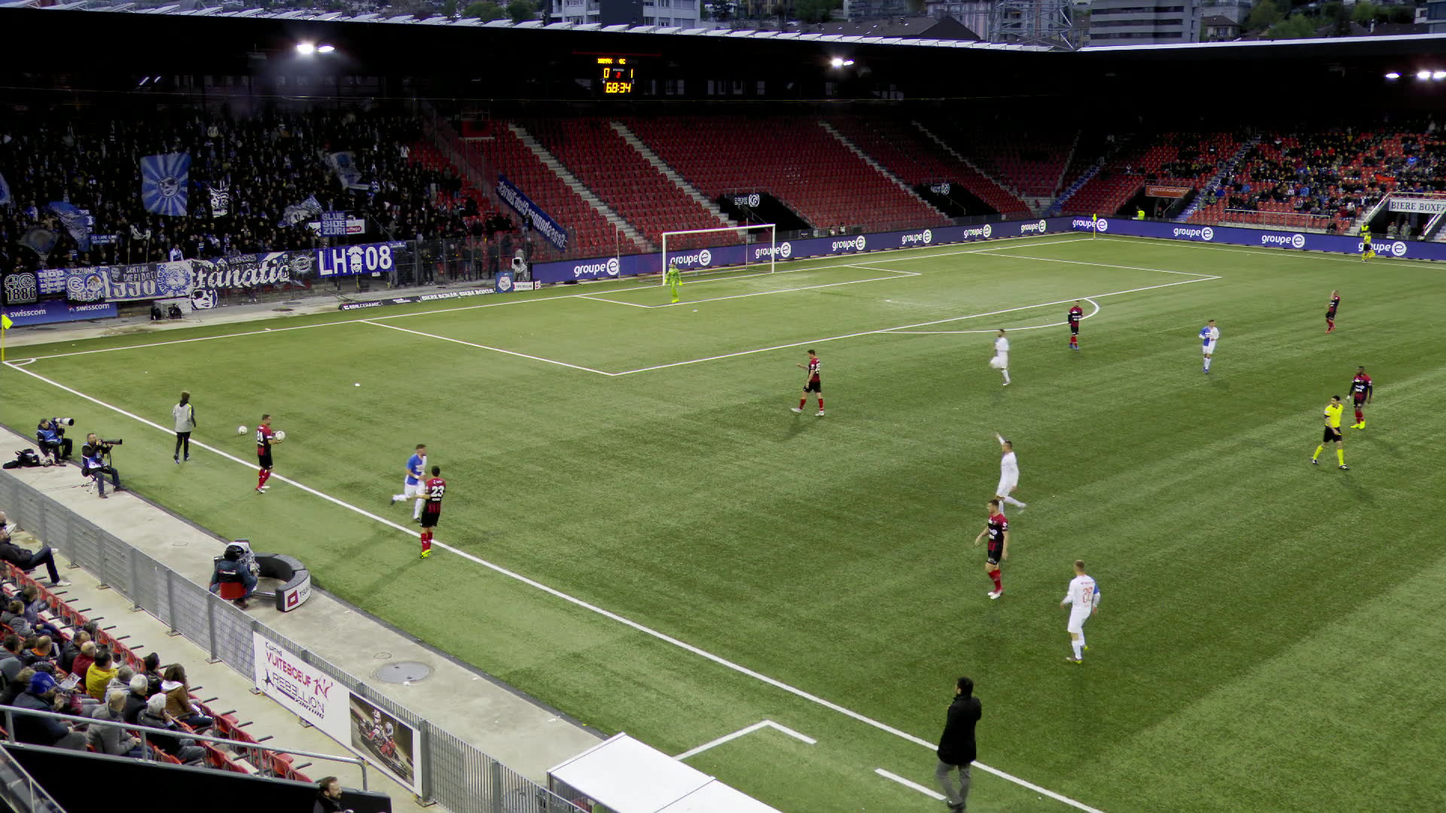ball: (275, 430, 285, 440), (236, 425, 246, 434)
player: (1057, 557, 1104, 665), (974, 498, 1014, 600), (415, 465, 448, 557), (389, 441, 426, 521), (996, 431, 1027, 521), (254, 413, 284, 493), (795, 348, 826, 416), (1344, 364, 1375, 429), (990, 326, 1022, 387), (1198, 318, 1220, 373), (1066, 299, 1084, 351), (1322, 288, 1341, 333), (665, 262, 682, 303)
referee: (1311, 393, 1347, 469), (1357, 231, 1371, 262)
